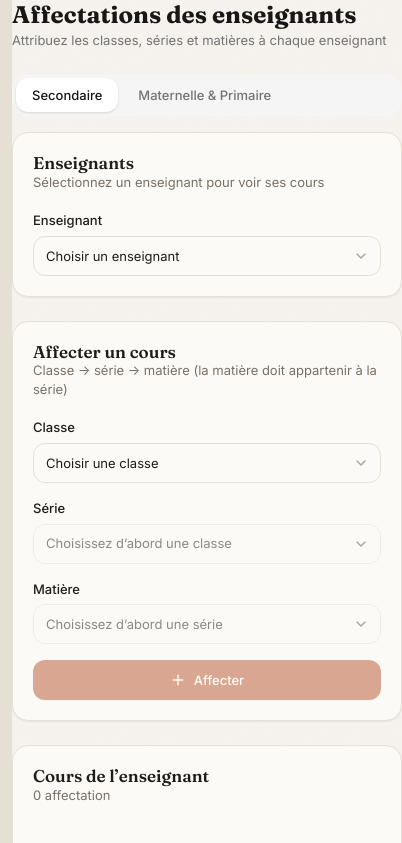
Test: AffectationsPage — lecture › affiche les affectations d’un enseignant sélectionné
The width and height of the screenshot is (402, 843).
Select "Adjovi Rose" in the dropdown named "Enseignant" at (207, 256), box [33,236,381,276]
(page scrolled)
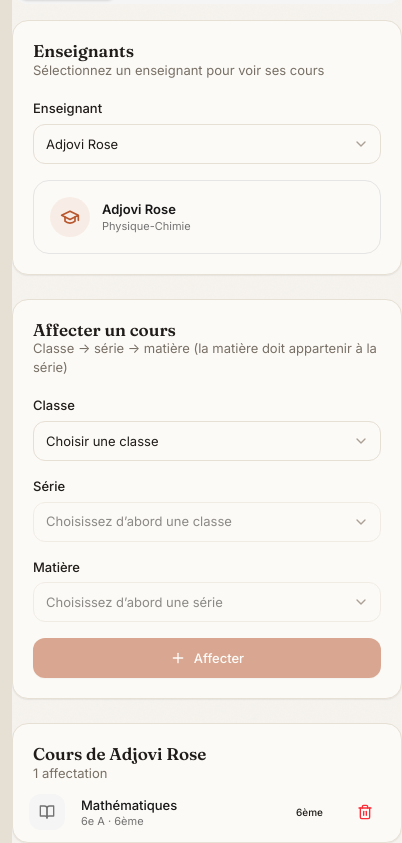
Now the text "Mathématiques" is shown, box [81,797,177,813]
Now the text "6e A · 6ème" is shown, box [81,814,144,828]
Now the text "6ème" is shown, box [296,806,323,818]
